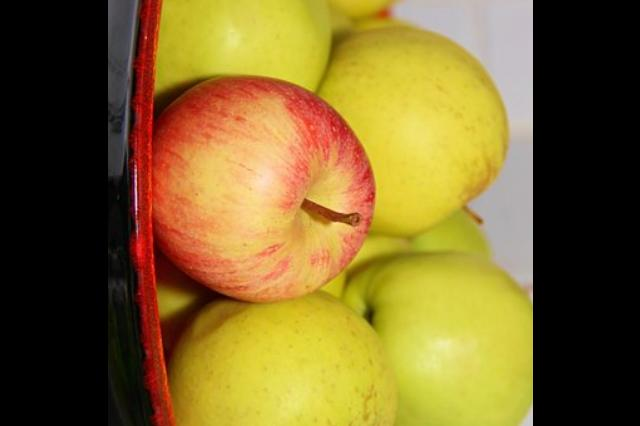Apples: (154, 76, 372, 304)
